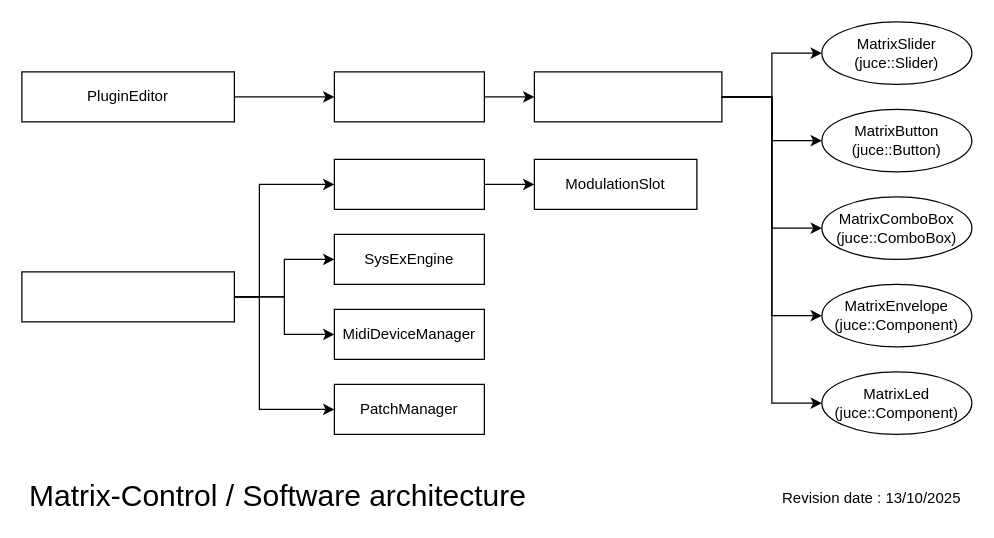
Image size: 994x538. Some labels were removed from this diagram. Each missing label, with the box of its shape:
ComponentFactory: (533, 71, 722, 122)
MainComponent (juce::Component): (333, 71, 484, 122)
PatchModel: (333, 158, 484, 209)
PluginProcessor: (21, 271, 234, 322)
